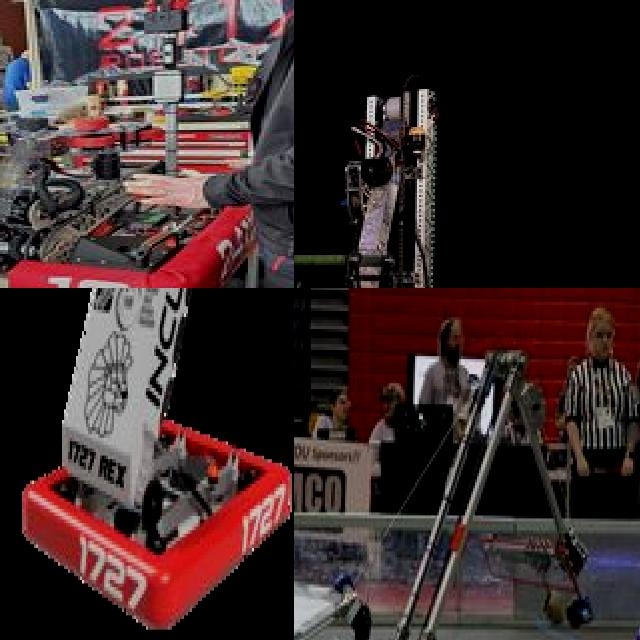FRC-Robots: (0, 288, 294, 640), (0, 59, 294, 288), (294, 354, 510, 640), (294, 61, 514, 288)
